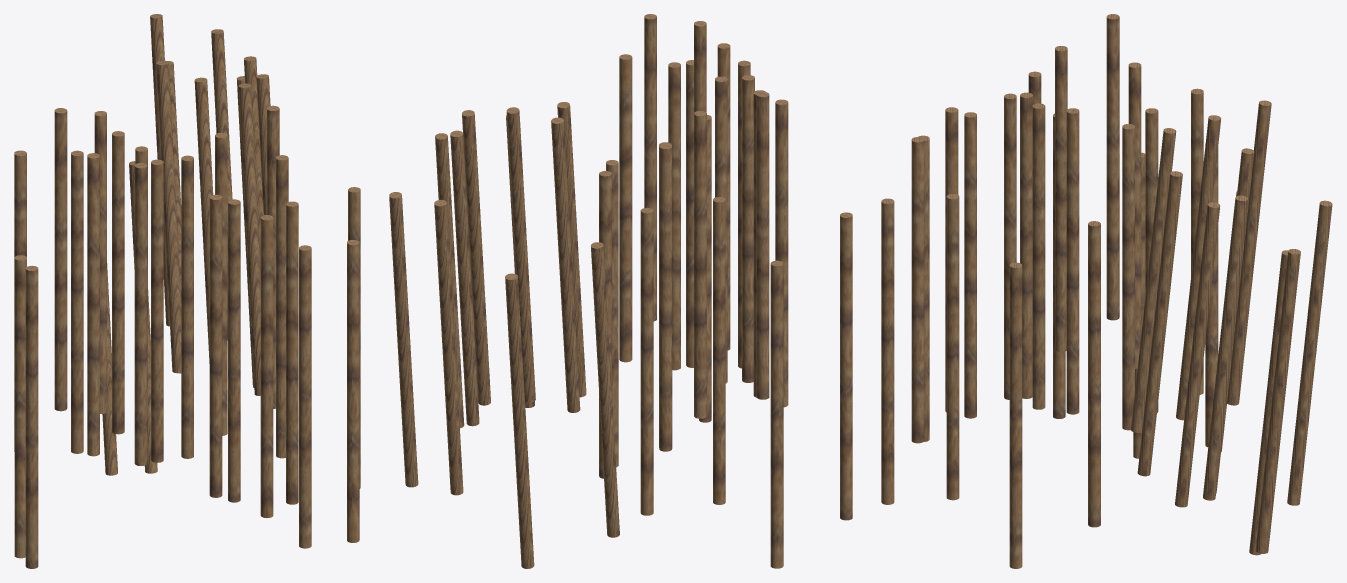
The model's file is polls.obj.
The picture shows the model from 3 angles, left to right: view 1: azimuth 30°, elevation 25°; view 2: azimuth 150°, elevation 25°; view 3: azimuth 270°, elevation 25°; orthographic projection.
Parts seen in each view (by area): view 1: Cylinder.006; view 2: Cylinder.006; view 3: Cylinder.006.
Boxes of the visible parts, box(x1,y1,x2,y2) form: Cylinder.006: box(14, 14, 360, 568); Cylinder.006: box(389, 14, 852, 568); Cylinder.006: box(881, 14, 1332, 568).
Size of the model in its own units: 13.5 by 17.24 by 15.42.
